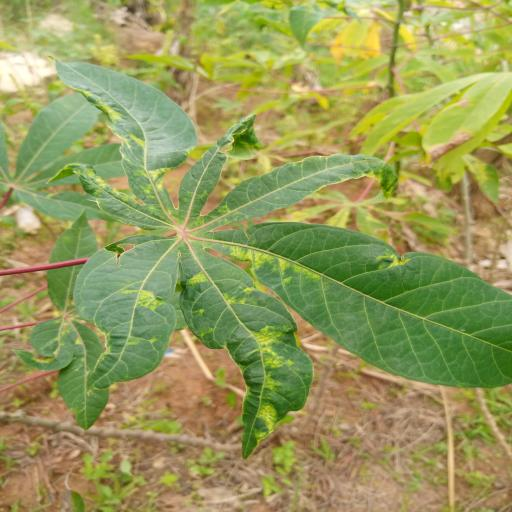Cassava_Mosaic: (25, 113, 512, 457)
